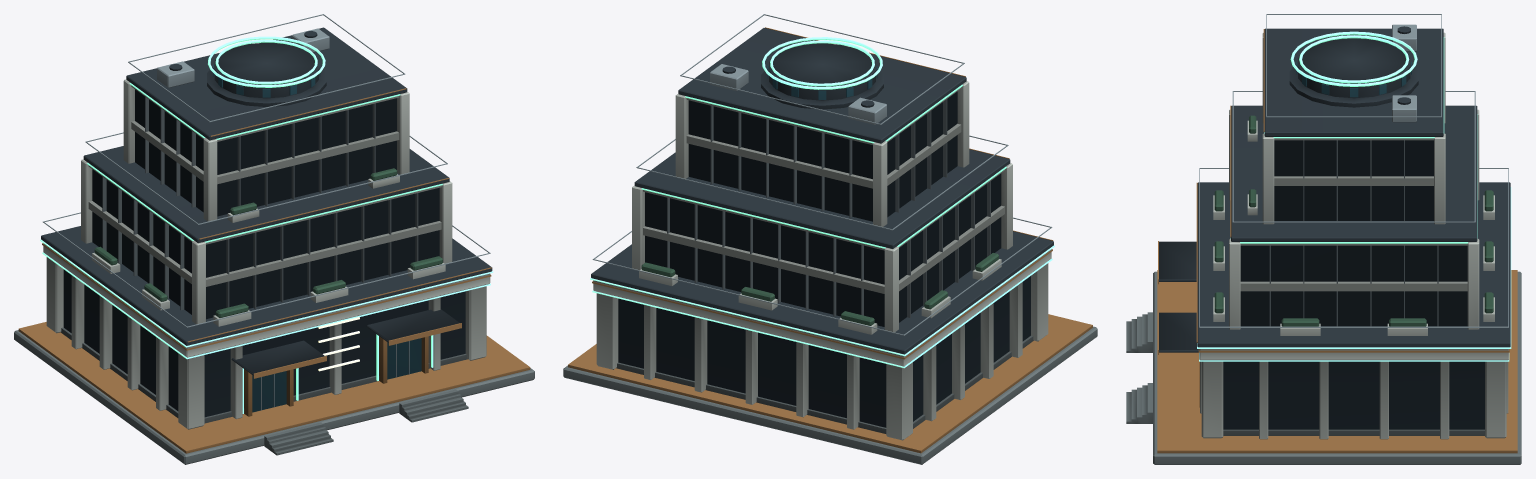
File: memory-archive.lod1.glb
3 views of the same model, side by side, from view 1: azimuth 30°, elevation 25°; view 2: azimuth 150°, elevation 25°; view 3: azimuth 270°, elevation 25° (orthographic). The views are drawn at different scales.
Visible parts, largest first — view 1: structure, lobby; view 2: structure, lobby; view 3: structure, lobby.
Boxes of the visible parts, x1,y1,x2,y2 form: structure: (14,14,534,464); lobby: (63,269,465,417); structure: (563,14,1097,464); lobby: (618,276,1030,427); structure: (1126,14,1521,464); lobby: (1223,361,1484,429).
Size of the model in its own units: 26 by 20.78 by 23.6.
